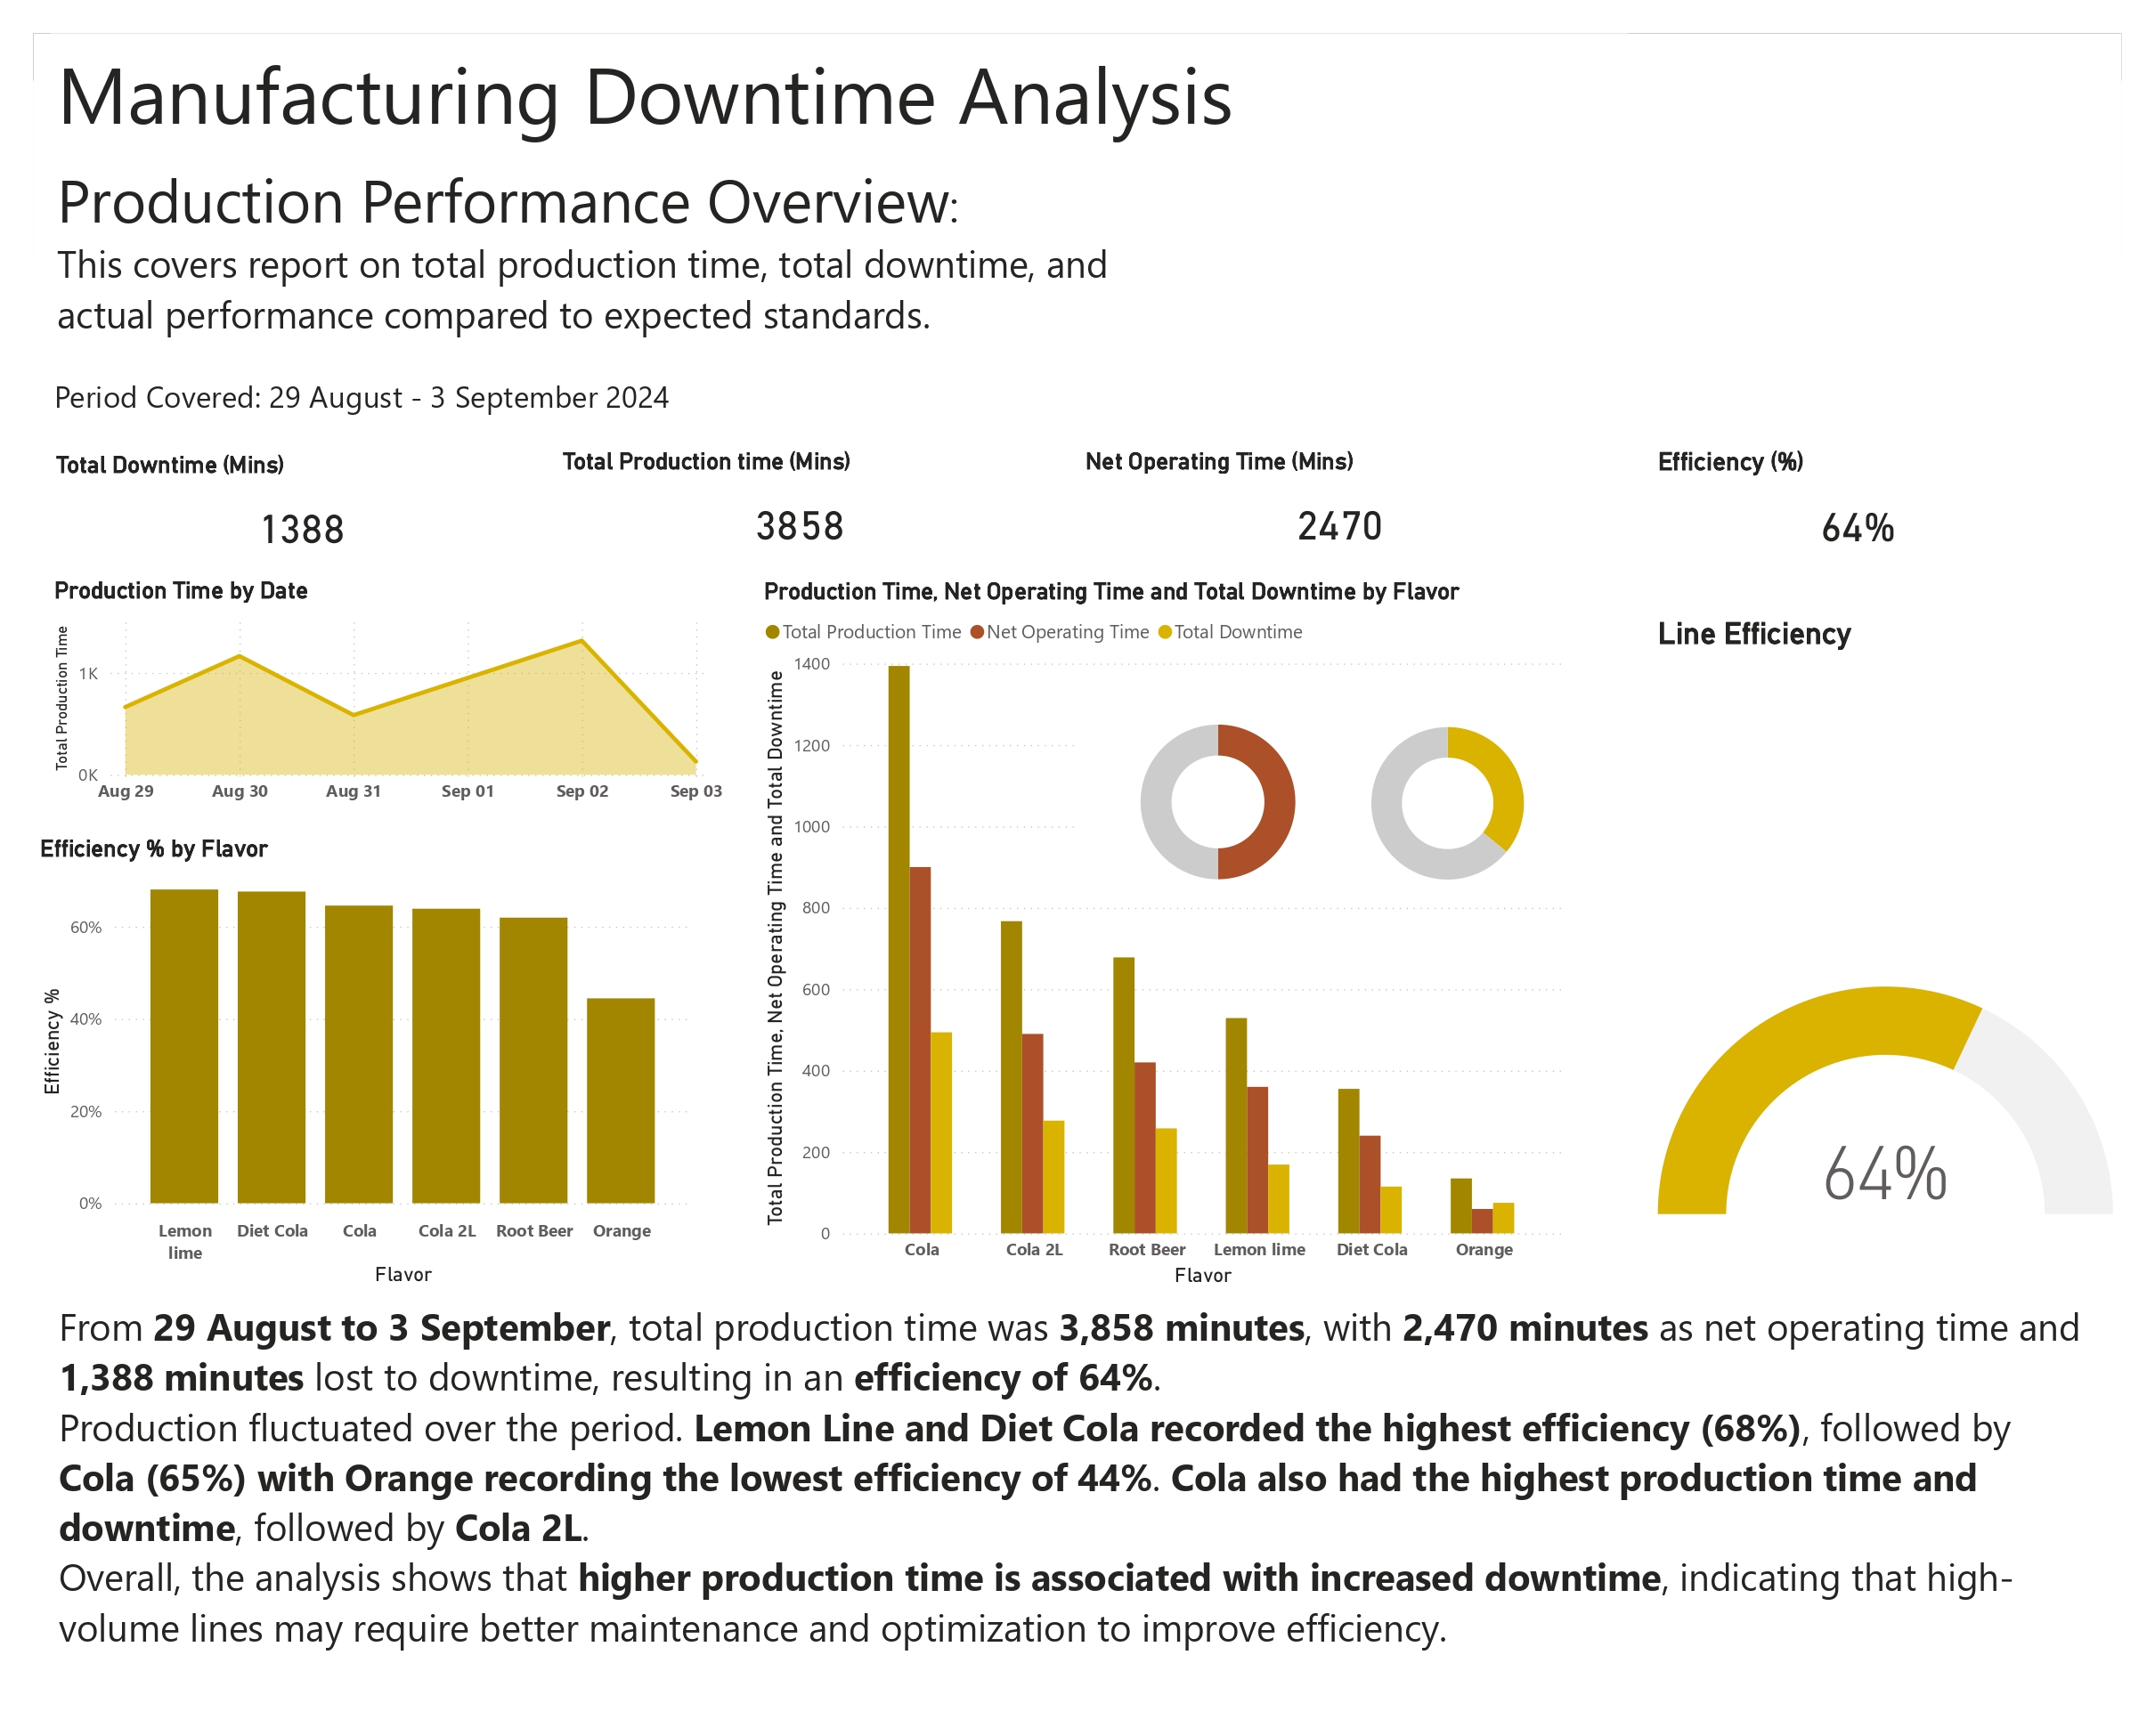

This screenshot's page, from the dashboard's own definition file:
{"tool":"powerbi","page":{"name":"Production & Downtime Summary","canvas":[1500,1200],"ordinal":0},"visuals":[{"type":"textbox","box":[12.2,14.6,1134.1,87.8],"z":0},{"type":"textbox","box":[12.2,85.4,819.5,156.1],"z":1000},{"type":"textbox","box":[9.8,241.5,822,56.1],"z":2000},{"type":"card","title":"Total Downtime (Mins)","fields":{"Values":["Downtime factors.Total Downtime"]},"box":[10.1,299.4,365.3,91.3],"z":3000},{"type":"card","title":"Total Production time (Mins)","fields":{"Values":["Sum(Line productivity.Minutes)"]},"box":[375.5,296.8,350.1,91.3],"z":4000},{"type":"card","title":"Net Operating Time (Mins)","fields":{"Values":["Downtime factors.Net Operating Time"]},"box":[751,296.8,375.5,91.3],"z":5000},{"type":"card","title":"Efficiency (%)","fields":{"Values":["Downtime factors.Efficiency %"]},"box":[1161.9,296.8,296.8,91.3],"z":6000},{"type":"columnChart","fields":{"Category":["Products.Flavor"],"Y":["Downtime factors.Efficiency %"]},"box":[0,575.6,478,329.3],"z":7000},{"type":"clusteredColumnChart","title":"Production Time, Net Operating Time and Total Downtime by Flavor","fields":{"Y":["Downtime factors.Total Production Time","Downtime factors.Net Operating Time","Downtime factors.Total Downtime"],"Category":["Products.Flavor"]},"box":[520.1,390.7,583.5,515],"z":8000},{"type":"gauge","title":"Line Efficiency","fields":{"Y":["Downtime factors.Efficiency %"]},"box":[1161.9,418.6,337.4,672.3],"z":9000},{"type":"donutChart","fields":{"Y":["Downtime factors.Downtime %","Downtime factors.Remaining %"]},"box":[926.8,480.5,178,146.3],"z":10000},{"type":"donutChart","fields":{"Y":["Downtime factors.Net Operating %","Downtime factors.Remaining %"]},"box":[751.2,478,200,148.8],"z":11000},{"type":"stackedAreaChart","title":"Production Time by Date","fields":{"Category":["Line productivity.Date.Variation.Date Hierarchy.Year","Line productivity.Date.Variation.Date Hierarchy.Quarter","Line productivity.Date.Variation.Date Hierarchy.Month","Line productivity.Date.Variation.Date Hierarchy.Day"],"Y":["Downtime factors.Total Production Time"]},"box":[9.8,390.2,490.2,173.2],"z":12000},{"type":"textbox","box":[12.7,905.7,1468.9,294.3],"z":13000}]}

Visuals, with their boxes on the page's 1500x1200 design canvas (x1, y1, x2, y2). These are canvas units, not pixel positions in the 2155x1736 screenshot, which may show the page scaled, cropped or inside an application window:
textbox: crop(12, 15, 1146, 102)
textbox: crop(12, 85, 832, 242)
textbox: crop(10, 242, 832, 298)
"Total Downtime (Mins)" card: crop(10, 299, 375, 391)
"Total Production time (Mins)" card: crop(376, 297, 726, 388)
"Net Operating Time (Mins)" card: crop(751, 297, 1126, 388)
"Efficiency (%)" card: crop(1162, 297, 1459, 388)
columnChart - Products.Flavor x Downtime factors.Efficiency %: crop(0, 576, 478, 905)
"Production Time, Net Operating Time and Total Downtime by Flavor" clusteredColumnChart: crop(520, 391, 1104, 906)
"Line Efficiency" gauge: crop(1162, 419, 1499, 1091)
donutChart - Downtime factors.Downtime % x Downtime factors.Remaining %: crop(927, 480, 1105, 627)
donutChart - Downtime factors.Net Operating % x Downtime factors.Remaining %: crop(751, 478, 951, 627)
"Production Time by Date" stackedAreaChart: crop(10, 390, 500, 563)
textbox: crop(13, 906, 1482, 1200)
